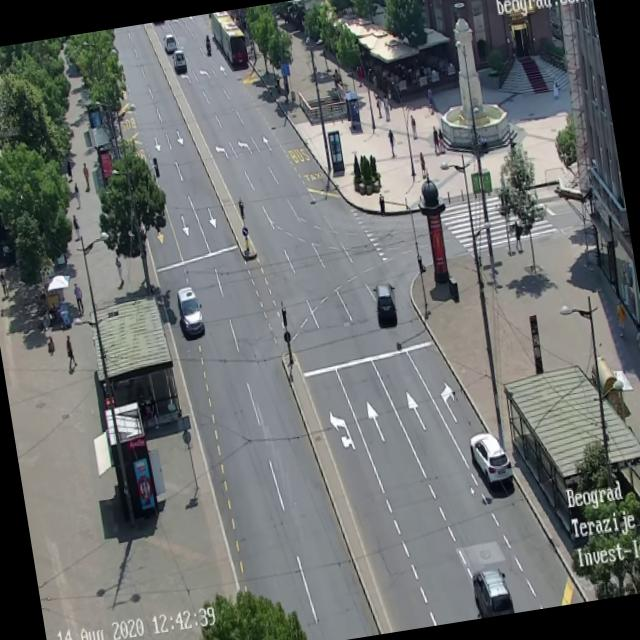bus: (208, 9, 250, 72)
car: (468, 428, 515, 491), (470, 566, 514, 618), (175, 284, 206, 339), (372, 281, 399, 329), (171, 45, 188, 75), (163, 32, 178, 54)
